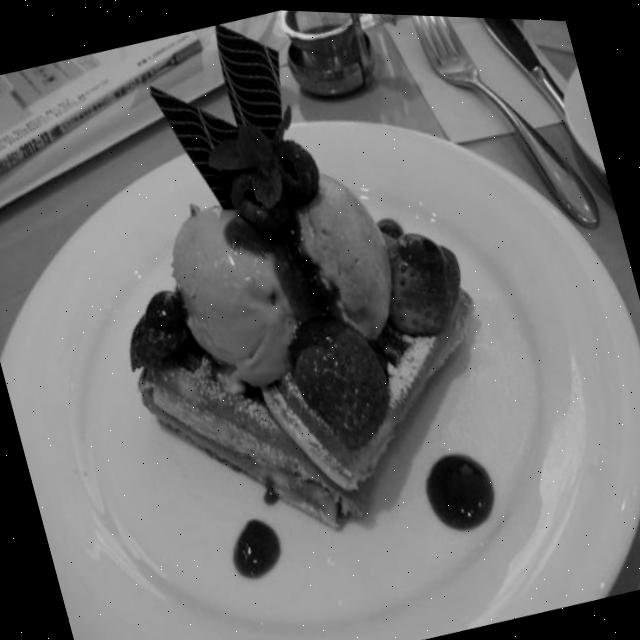三明治: (121, 4, 640, 640)
